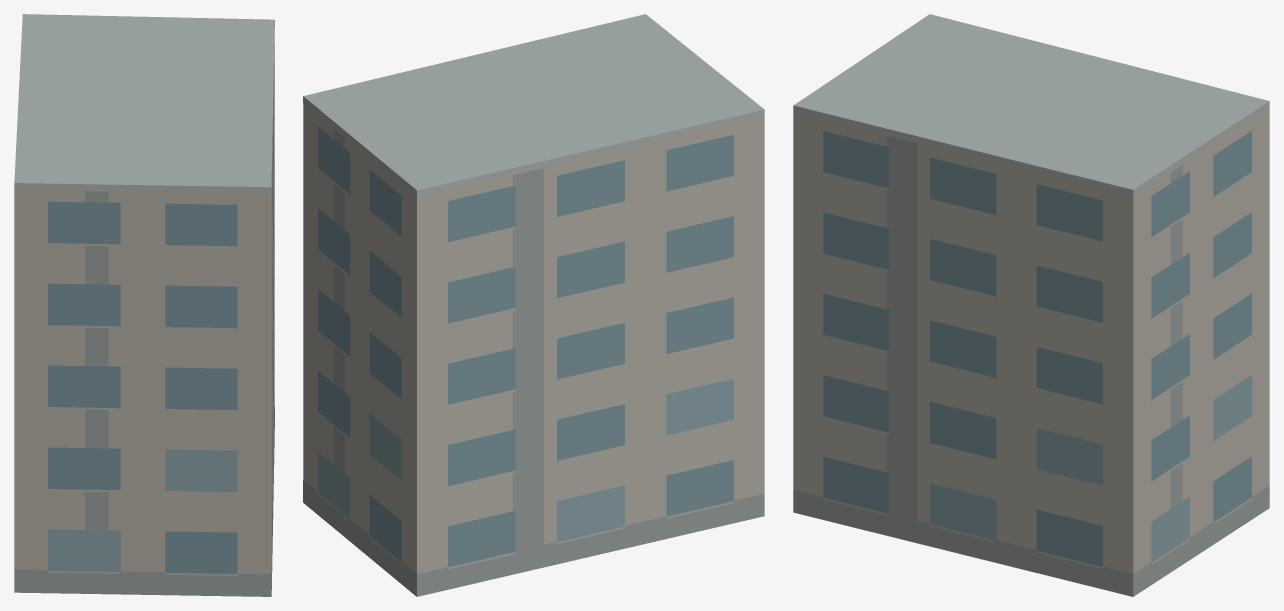
File: survey-upis-32686263.glb
3 views of the same model, side by side, from view 1: azimuth 30°, elevation 25°; view 2: azimuth 150°, elevation 25°; view 3: azimuth 270°, elevation 25° (orthographic).
Parts seen in each view (by area): view 1: survey-upis-32686263.tmp; view 2: survey-upis-32686263.tmp; view 3: survey-upis-32686263.tmp.
Boxes of the visible parts, <box> form: survey-upis-32686263.tmp: <box>14,14,274,596</box>; survey-upis-32686263.tmp: <box>303,14,764,596</box>; survey-upis-32686263.tmp: <box>793,14,1269,596</box>.
Size of the model in its own units: 12.8 by 13.8 by 14.65.
